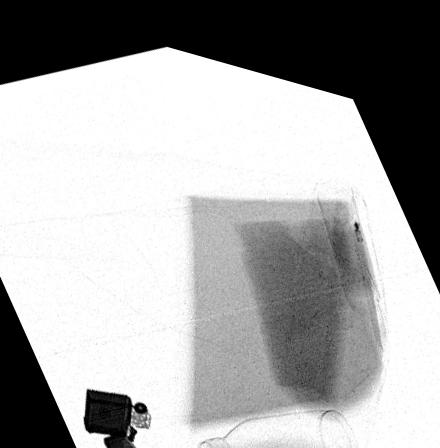Lighter: (82, 383, 150, 448)
